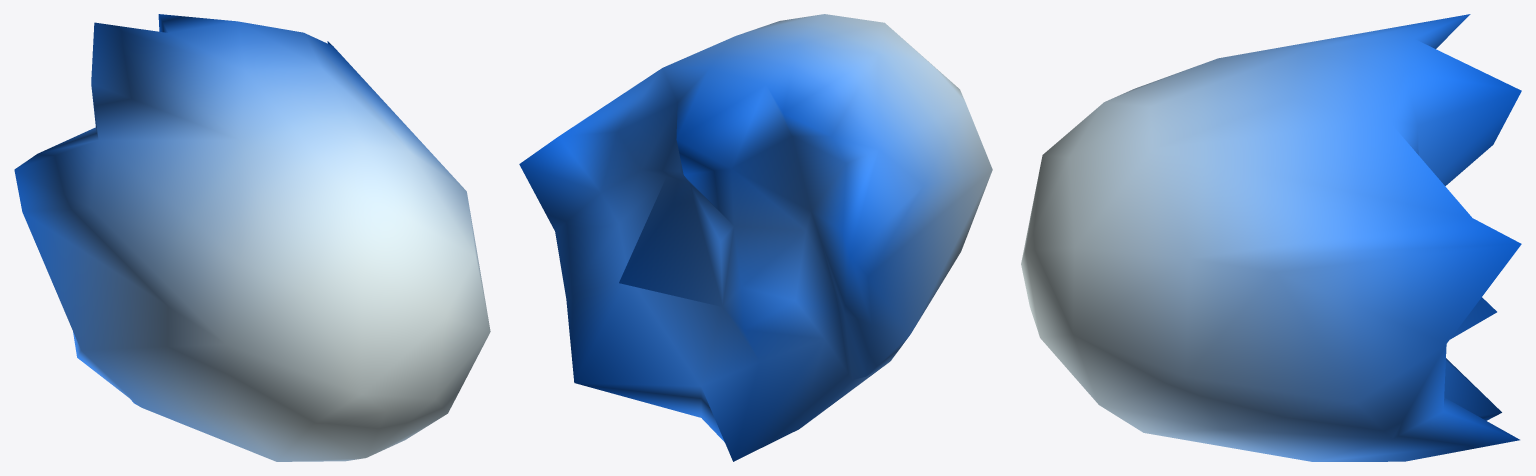
File: spitball.glb
3 renders of one model, left to right at view 1: azimuth 30°, elevation 25°; view 2: azimuth 150°, elevation 25°; view 3: azimuth 270°, elevation 25°, orthographic. The views are drawn at different scales.
Visible parts, largest first — view 1: SpitBall; view 2: SpitBall; view 3: SpitBall.
Part boxes in pixels (bbox=[...]): SpitBall: bbox=[14, 14, 490, 461]; SpitBall: bbox=[519, 14, 992, 461]; SpitBall: bbox=[1021, 14, 1521, 461].
Bounding box in the file's own units: 0.3746 × 0.3996 × 0.4591.
Materials: 1 (1 with a texture image).
